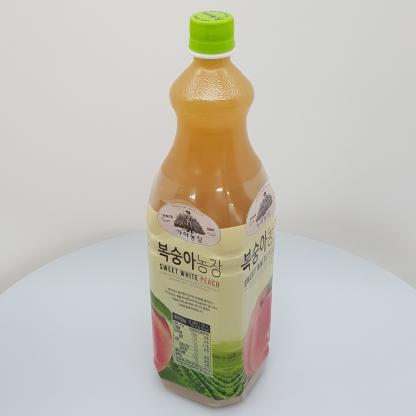-------1-5L: (146, 11, 276, 408)
